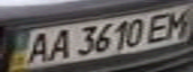0: (124, 16, 151, 47)
1: (109, 18, 133, 51)
3: (72, 24, 96, 57)
6: (93, 20, 115, 53)
A: (18, 29, 57, 65), (42, 27, 75, 61)
E: (142, 11, 178, 43)
M: (160, 6, 193, 39)
